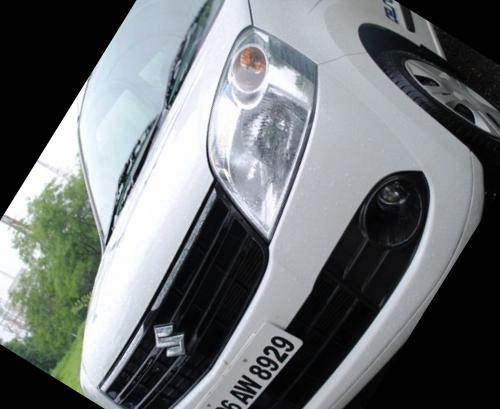plate: (181, 307, 311, 409)
